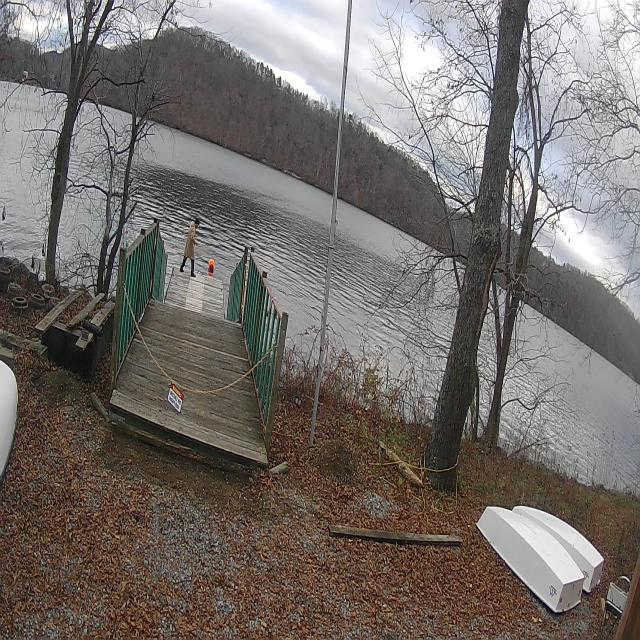Buoy: (205, 247, 220, 280)
